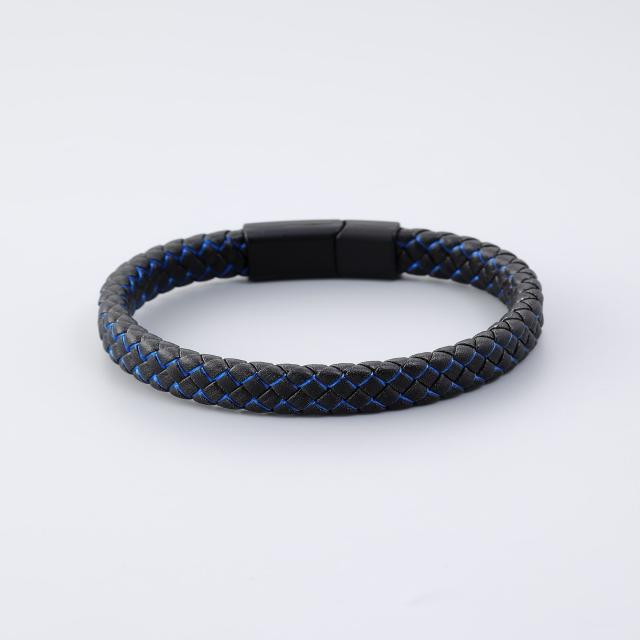bracelet: (58, 193, 572, 451)
